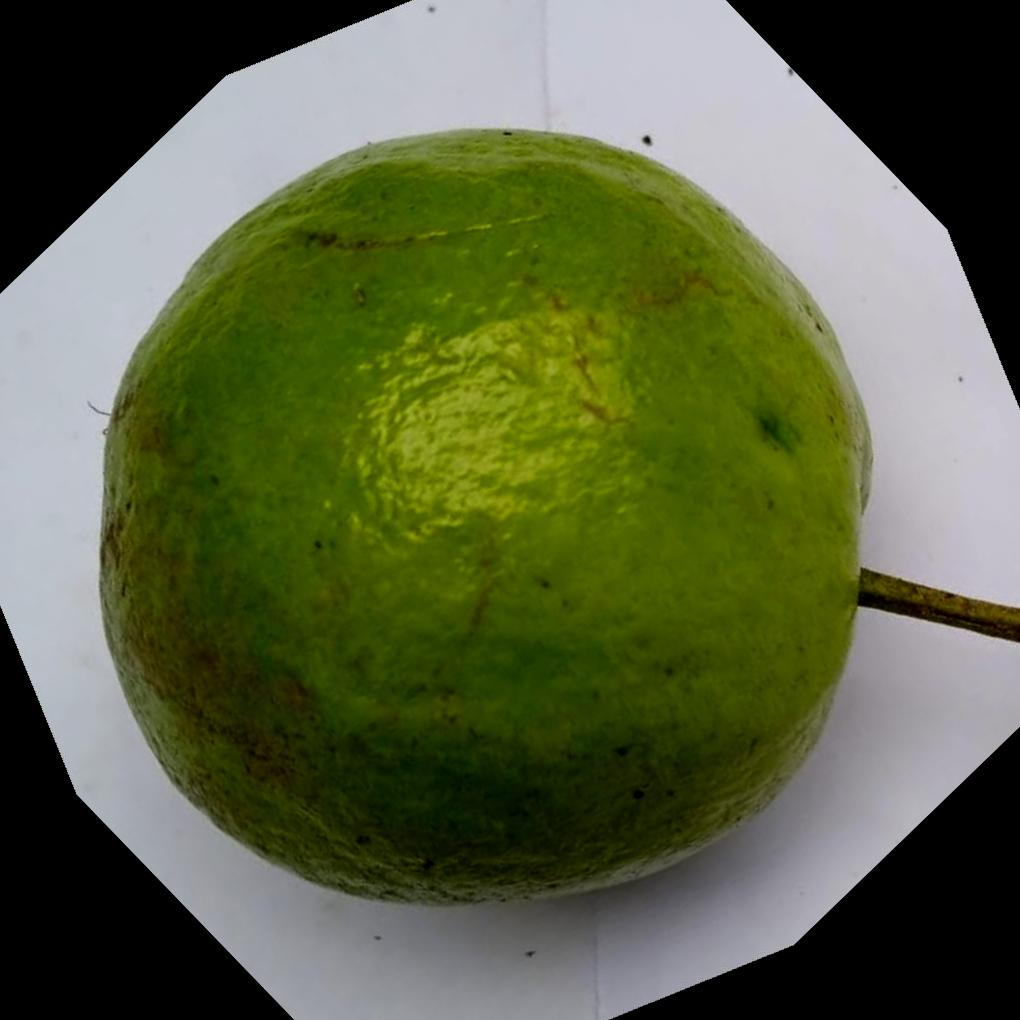FreshGuava: (92, 128, 872, 912)
